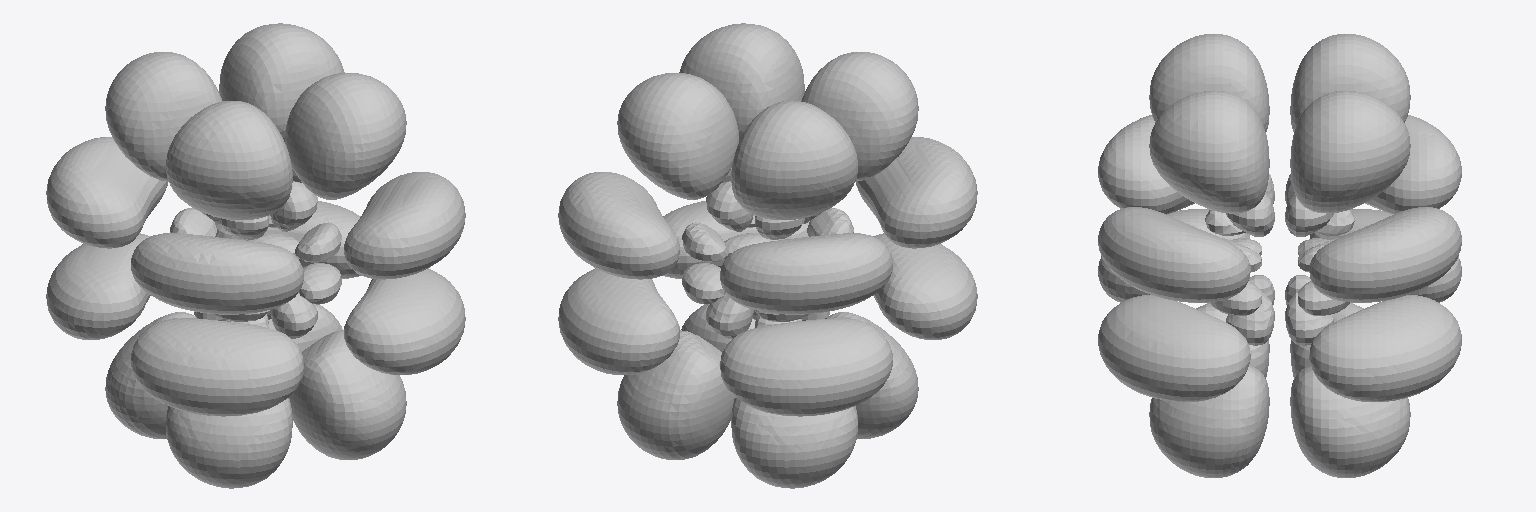
Rendered from orb_n=7_ l=5 _m=-2.obj.
3 renders of one model, left to right at view 1: azimuth 30°, elevation 25°; view 2: azimuth 150°, elevation 25°; view 3: azimuth 270°, elevation 25°, orthographic.
Parts seen in each view (by area): view 1: orb_n=7__l=5__m=-2; view 2: orb_n=7__l=5__m=-2; view 3: orb_n=7__l=5__m=-2.
Boxes of the visible parts, <box> form: orb_n=7__l=5__m=-2: <box>46,23,465,488</box>; orb_n=7__l=5__m=-2: <box>558,23,977,488</box>; orb_n=7__l=5__m=-2: <box>1098,34,1461,477</box>.
Size of the model in its own units: 148 by 170 by 148.